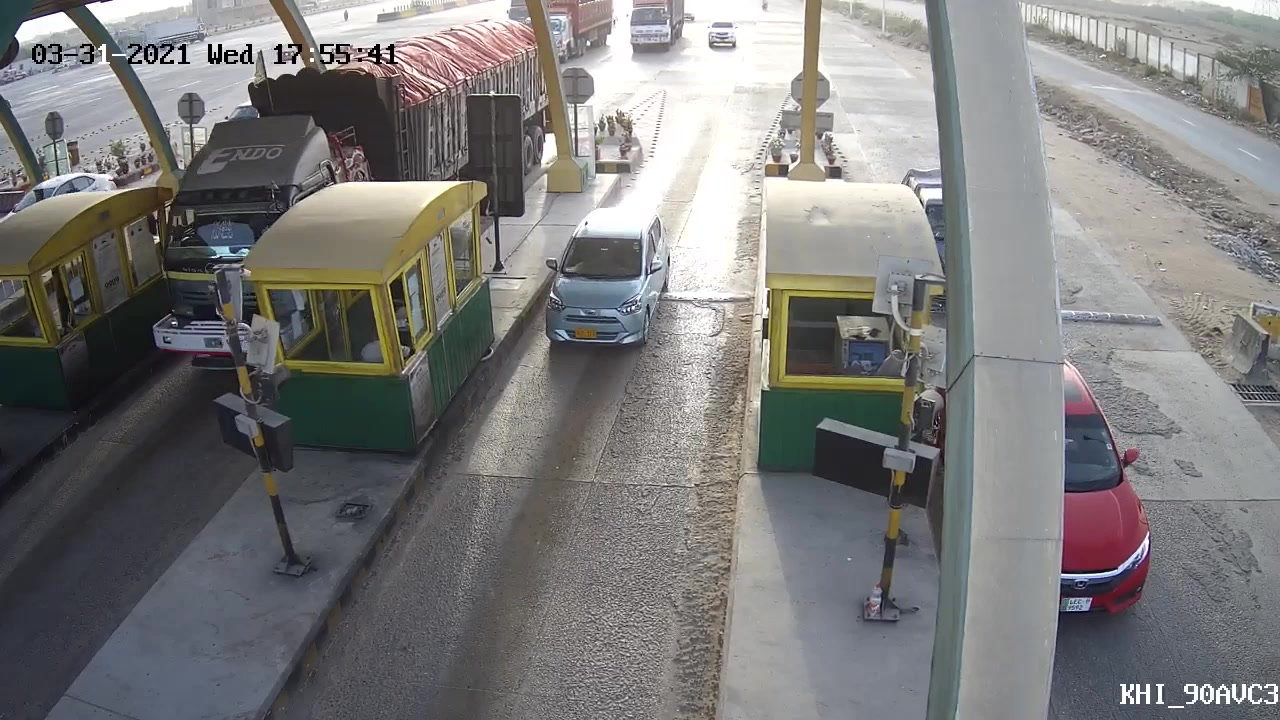F1: (535, 199, 671, 353)
